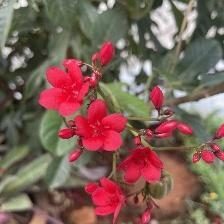jatropha: (75, 99, 130, 157), (40, 60, 94, 119), (85, 179, 136, 222), (124, 144, 165, 187)
